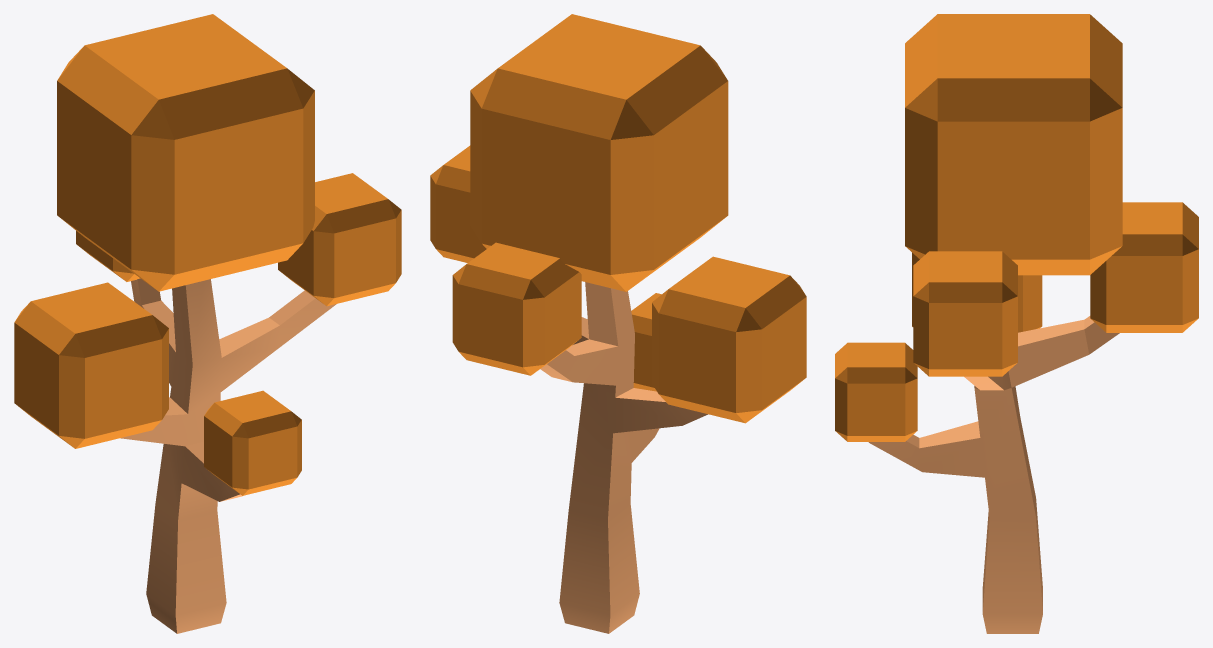
File: tree_detailed_fall.obj
3 views of the same model, side by side, from view 1: azimuth 30°, elevation 25°; view 2: azimuth 150°, elevation 25°; view 3: azimuth 270°, elevation 25° (orthographic). The views are drawn at different scales.
Parts seen in each view (by area): view 1: tree_detailed_fall; view 2: tree_detailed_fall; view 3: tree_detailed_fall.
Boxes of the visible parts, bbox=[...] form: tree_detailed_fall: bbox=[14, 14, 401, 633]; tree_detailed_fall: bbox=[430, 14, 806, 633]; tree_detailed_fall: bbox=[835, 14, 1198, 633].
Size of the model in its own units: 8.47 by 13.32 by 7.62.
